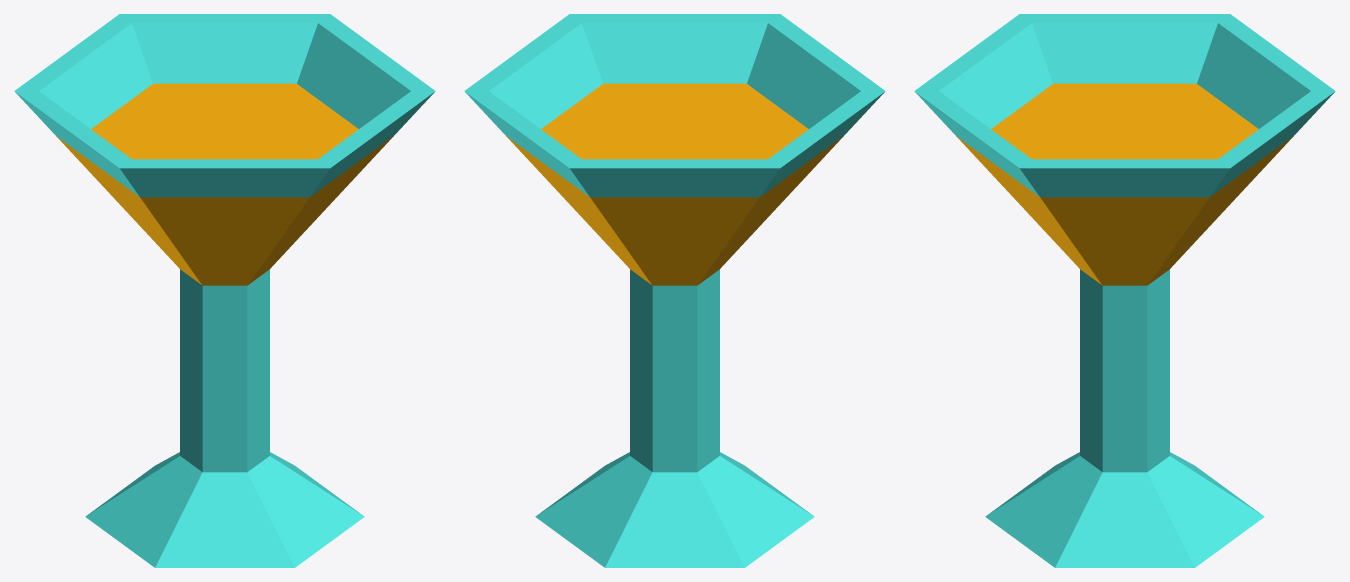
The model's file is Cup_coctail.fbx.
3 views of the same model, side by side, from view 1: azimuth 30°, elevation 25°; view 2: azimuth 150°, elevation 25°; view 3: azimuth 270°, elevation 25° (orthographic).
Parts seen in each view (by area): view 1: Cup_coctail; view 2: Cup_coctail; view 3: Cup_coctail.
Boxes of the visible parts, box(x1,y1,x2,y2) form: Cup_coctail: box(14, 14, 435, 567); Cup_coctail: box(464, 14, 885, 567); Cup_coctail: box(914, 14, 1335, 567).
Bounding box in the file's own units: 16.39 × 21.09 × 18.93.
